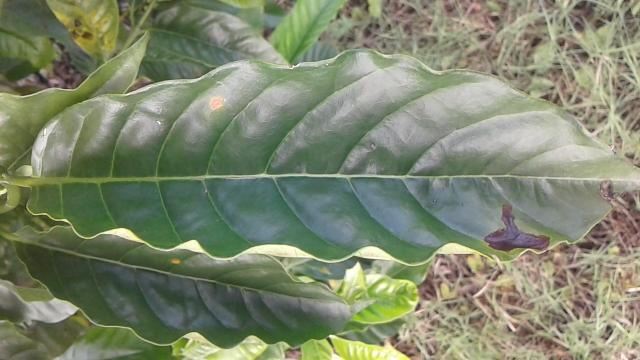rust_level_1: (24, 41, 640, 266)
